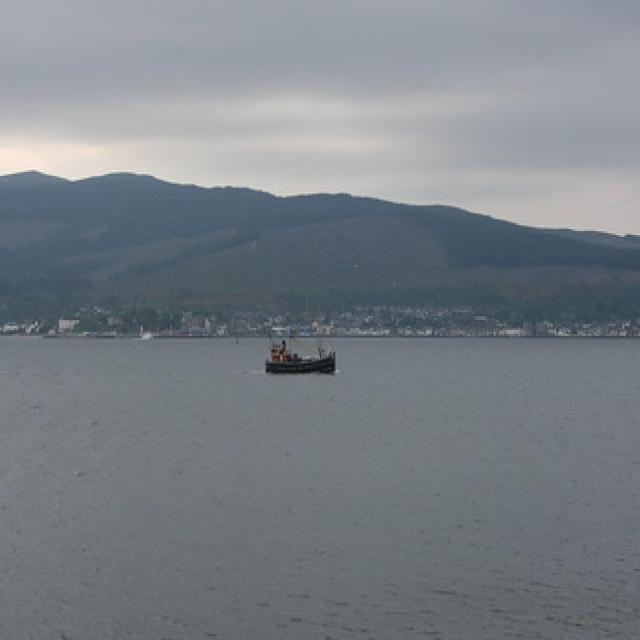fishing boat: (254, 303, 339, 376)
